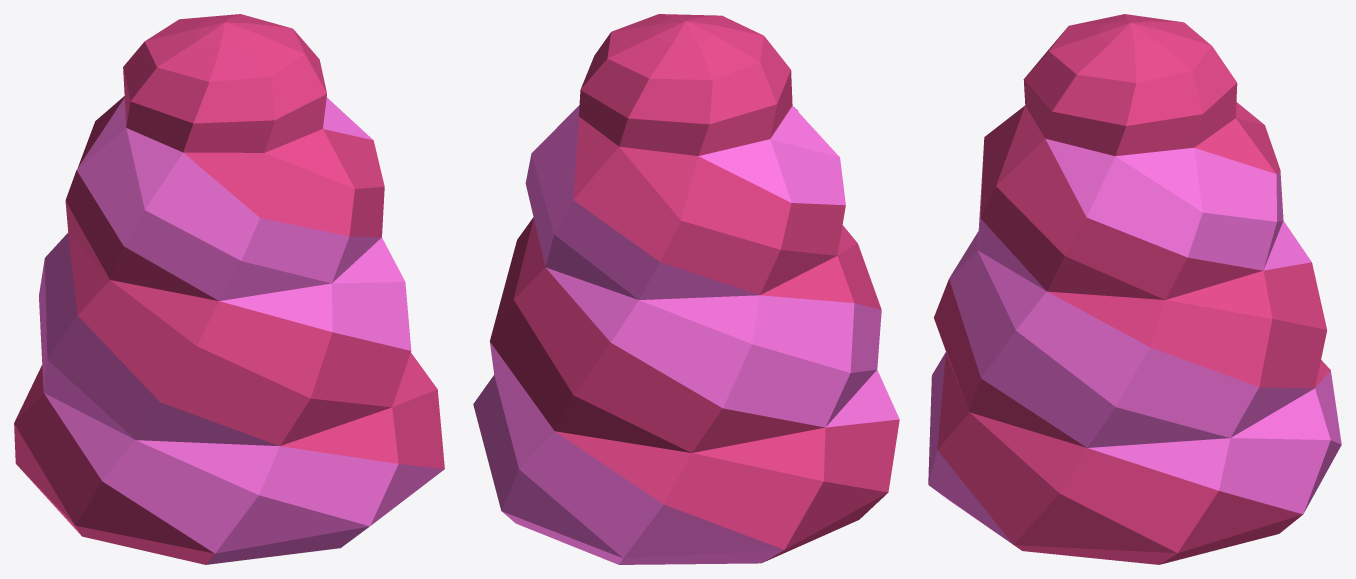
Rendered from ship.fbx.
The picture shows the model from 3 angles, left to right: view 1: azimuth 30°, elevation 25°; view 2: azimuth 150°, elevation 25°; view 3: azimuth 270°, elevation 25°; orthographic projection.
Visible parts, largest first — view 1: ship; view 2: ship; view 3: ship.
Boxes of the visible parts, x1,y1,x2,y2 form: ship: [14, 14, 444, 564]; ship: [473, 14, 899, 564]; ship: [928, 14, 1341, 564].
Size of the model in its own units: 3.99 by 5.04 by 4.06.
